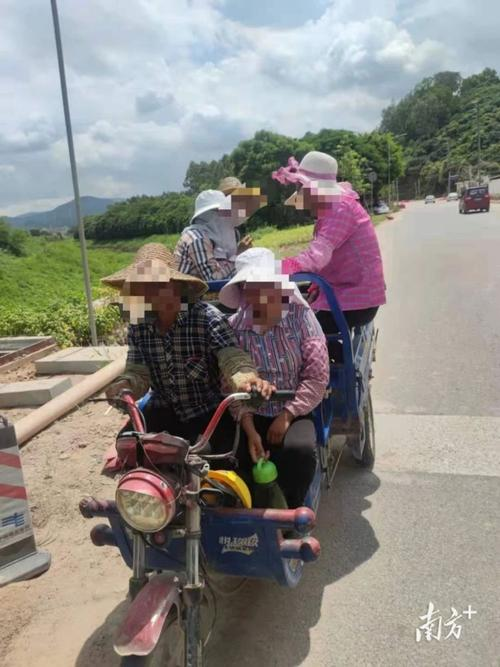driver: (112, 252, 215, 467)
overloading: (62, 139, 405, 666)
passenger: (214, 254, 334, 560), (282, 153, 392, 330), (169, 177, 256, 277)
